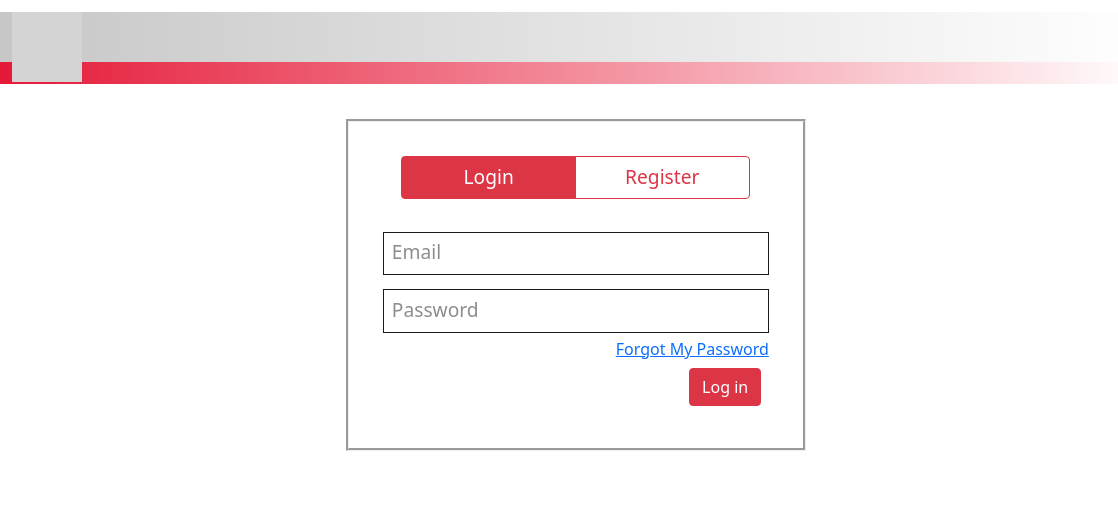
register checks › is able to switch to register
Click the text "Register".
click(662, 178)  # box x1=575 y1=156 x2=750 y2=199
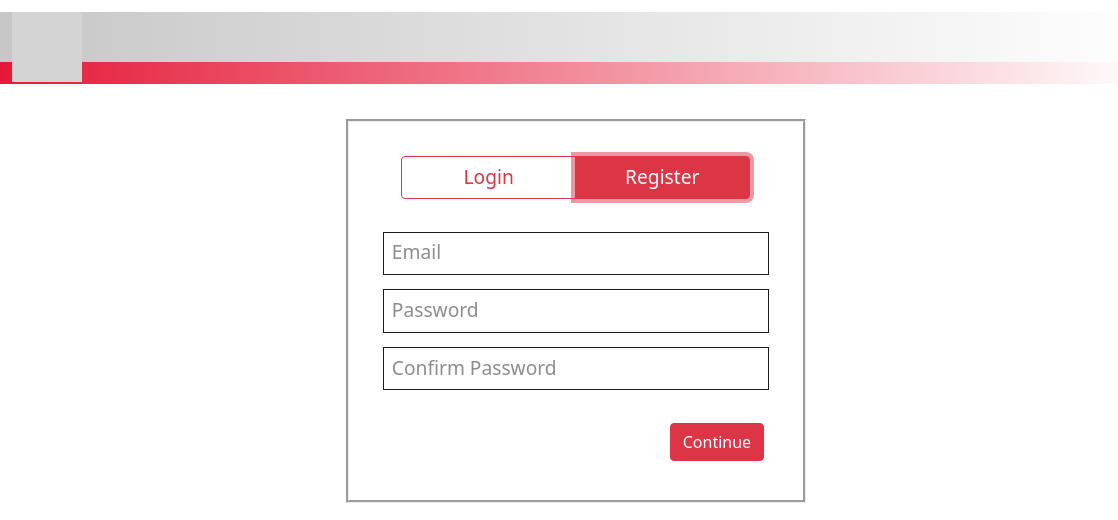
Expected: the button "Continue" is shown, x1=670 y1=423 x2=764 y2=461
